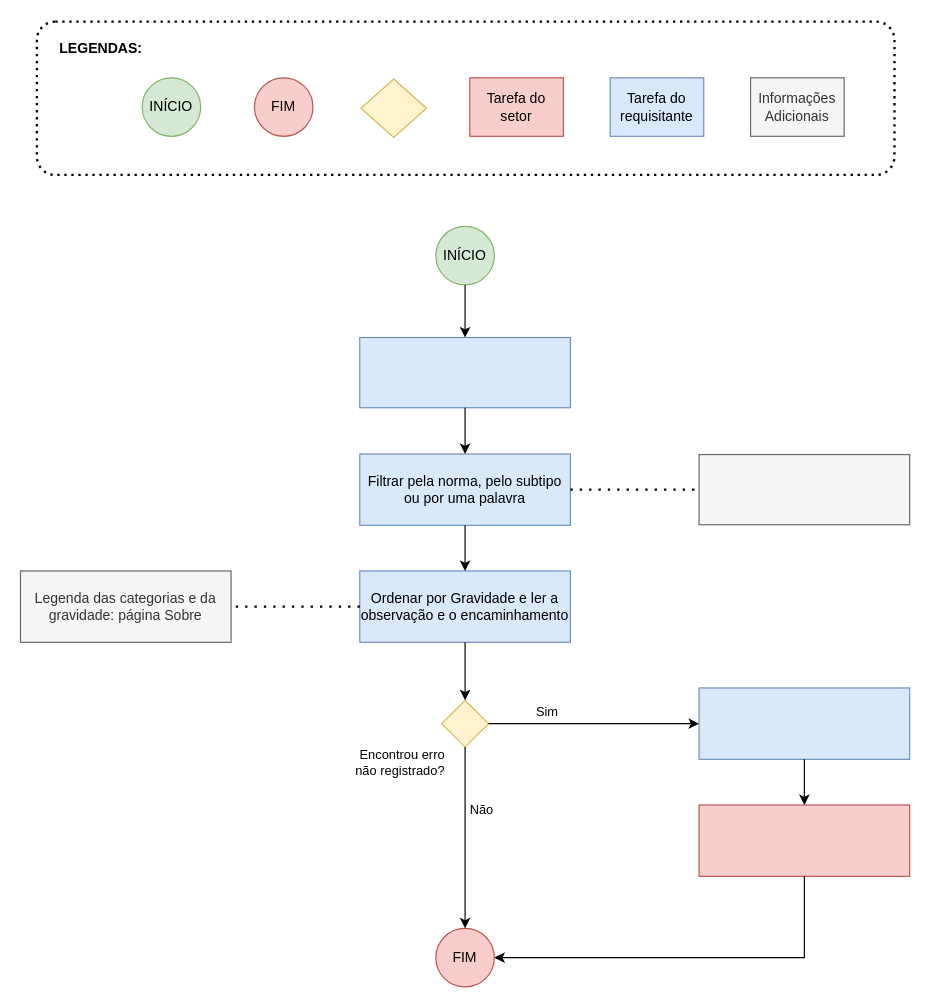
Image size: 930x1007. Some labels were removed from this diagram. The shapes that lost their labels are listed below. From the top down, each one's centre as x and y in pixels, then its label:
At point 393,107: "SE".
At point 464,372: "Abrir Divergências no menu".
At point 804,489: "Ex.: CONSUNI 07/2002 · D1- · revogada".
At point 804,723: "Informar no Atendimento CT – Direção de Centro, com a norma e o trecho".
At point 804,840: "Direção do CT: conferir na fonte oficial e registrar a divergência".
